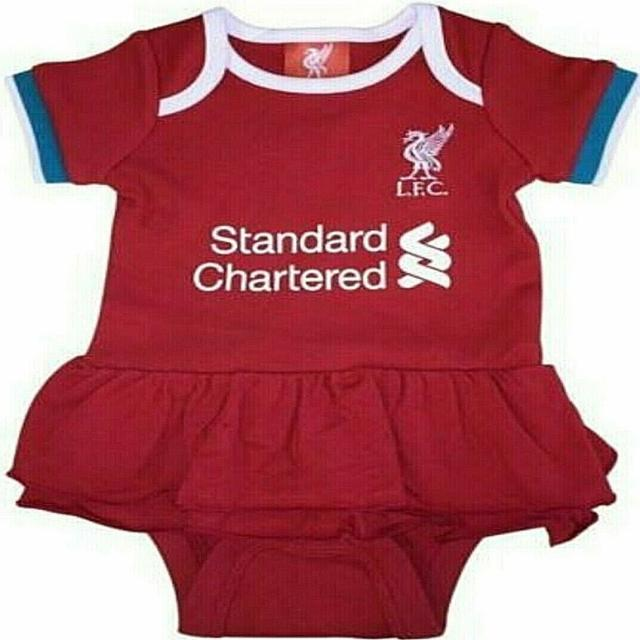Standard Chartered: (193, 222, 452, 292)
